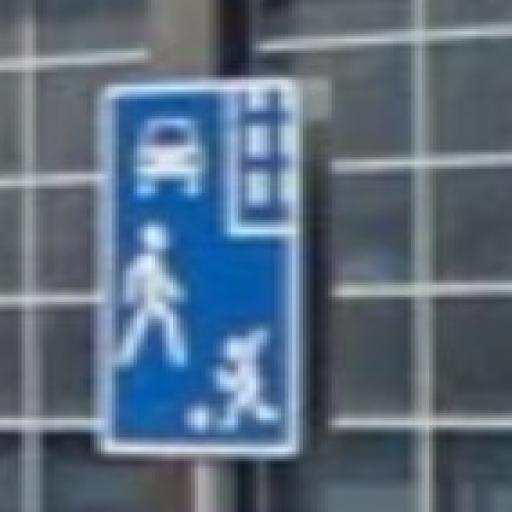traffic_sign: (91, 79, 315, 463)
